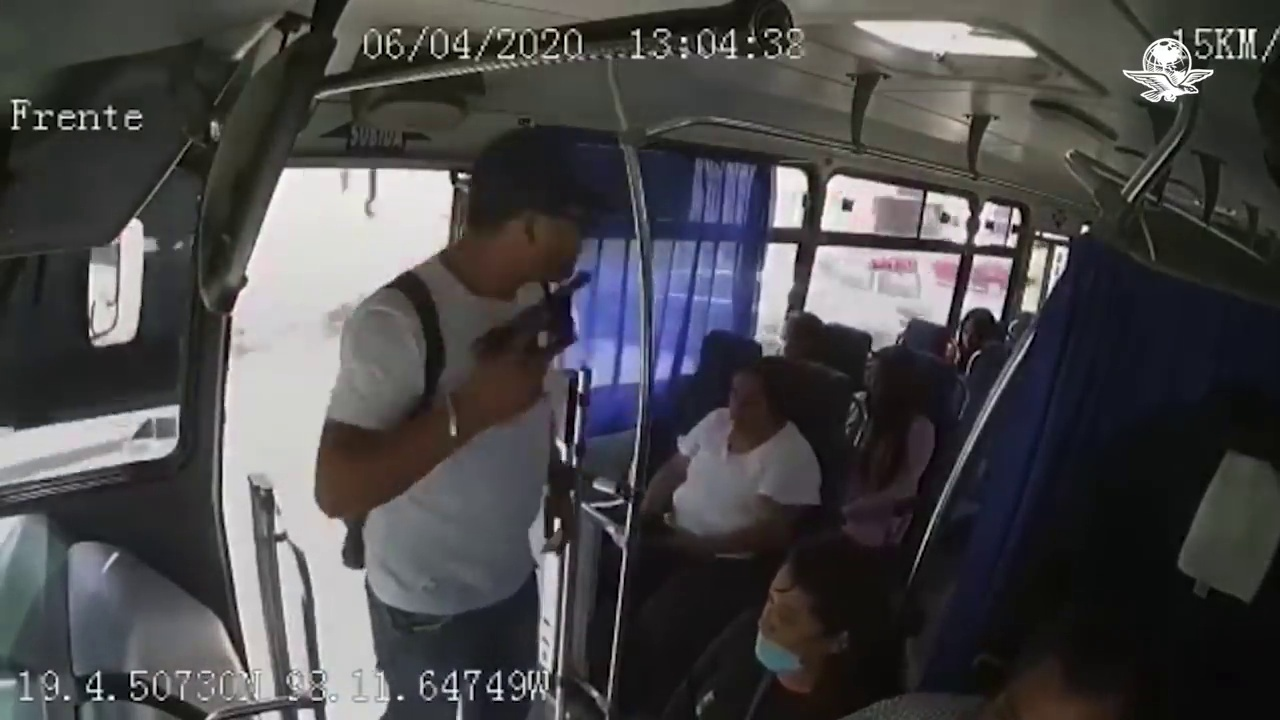pistol: (468, 267, 595, 373)
